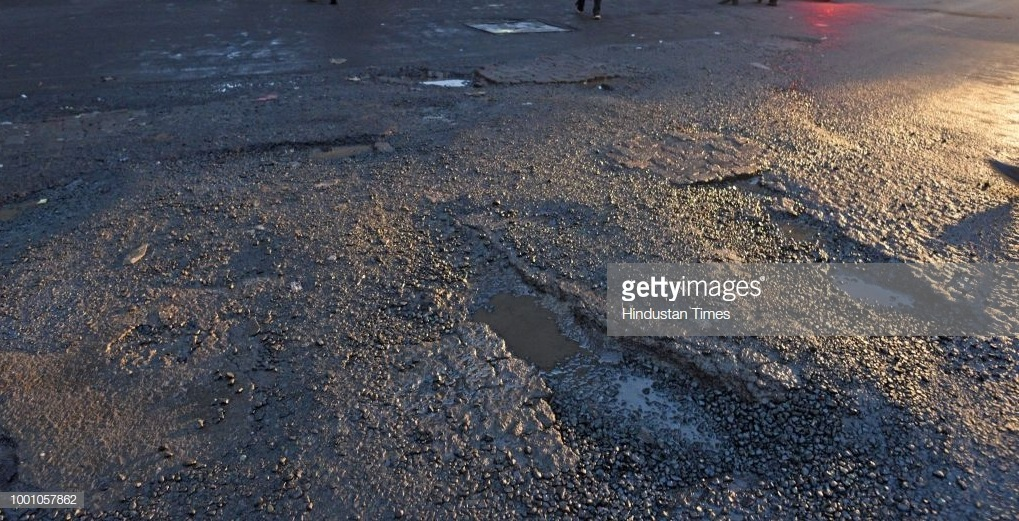pothole: (719, 170, 1004, 380), (568, 334, 735, 466), (463, 280, 589, 375), (373, 63, 515, 92), (273, 131, 388, 163), (8, 173, 94, 214), (467, 14, 584, 37)
